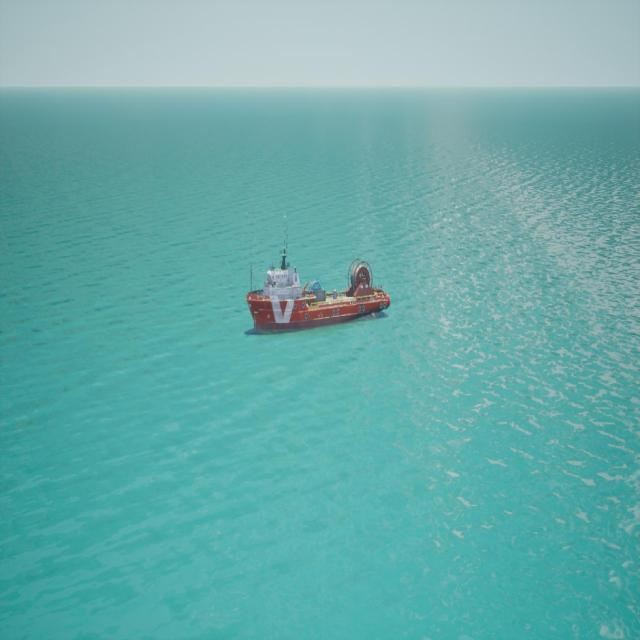tug boat: (246, 250, 389, 338)
